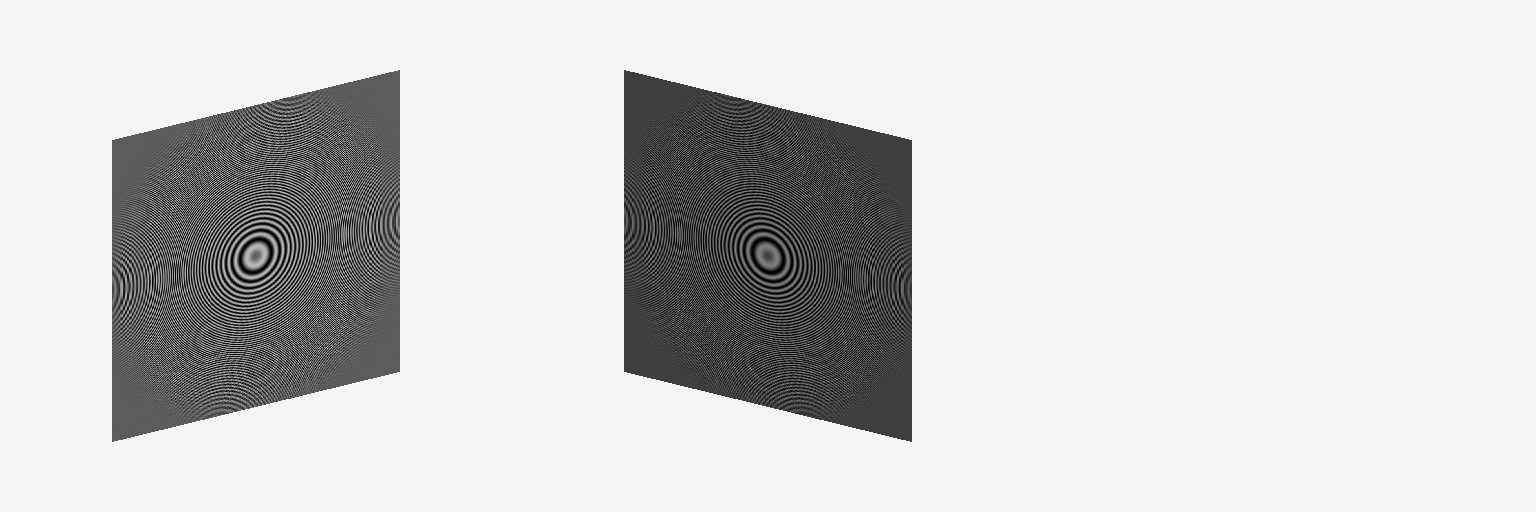
3 views of the same model, side by side, from view 1: azimuth 30°, elevation 25°; view 2: azimuth 150°, elevation 25°; view 3: azimuth 270°, elevation 25° (orthographic).
Visible parts, largest first — view 1: plane; view 2: plane; view 3: none.
Part boxes in pixels (x1,y1,x2,y2): plane: (112,70,399,441); plane: (624,70,911,441).
Size of the model in its own units: 0.3 by 0.3 by 0.
1 materials, 1 textured.